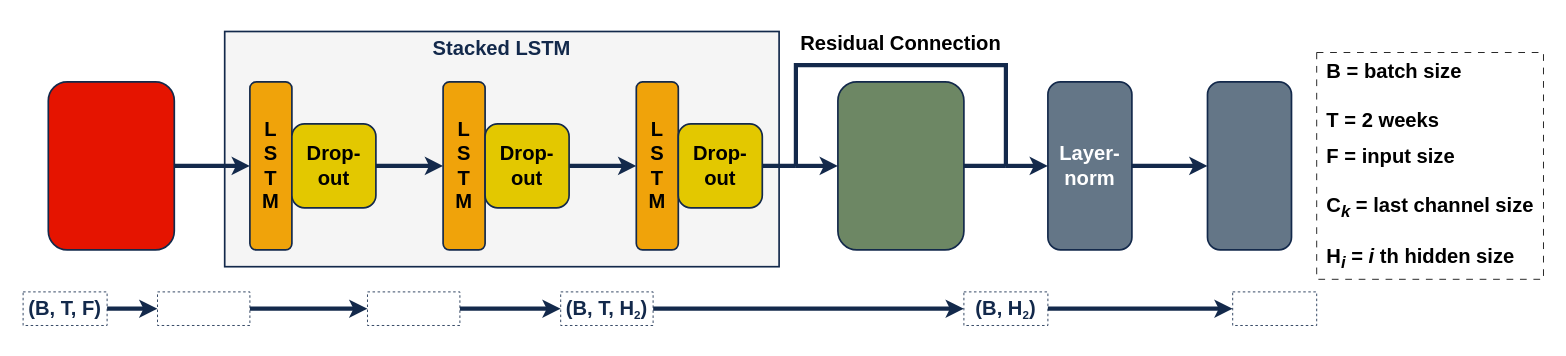
Some shapes in this 1566 by 356 pixel diagram are drawn without their labels. Each missing label, with the centre of its shape:
(B, 24 ): [1274,308]
(B, T, C k ): [203,308]
(B, T, H 1 ): [413,308]
Linear: [1249,165]
MHA: [900,165]
TCN: [111,165]
